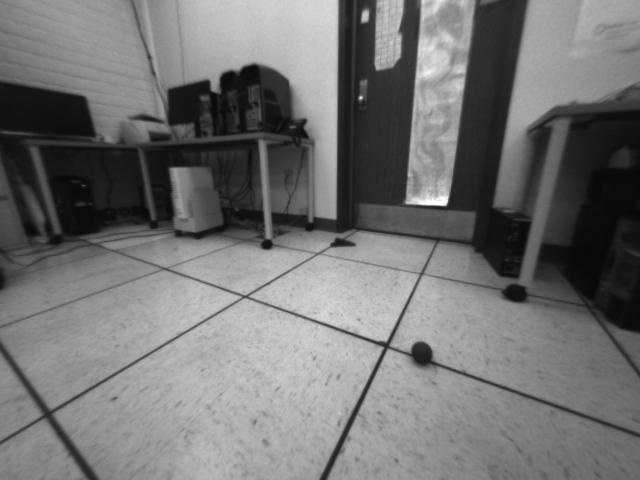dogtoy: (403, 332, 438, 370)
